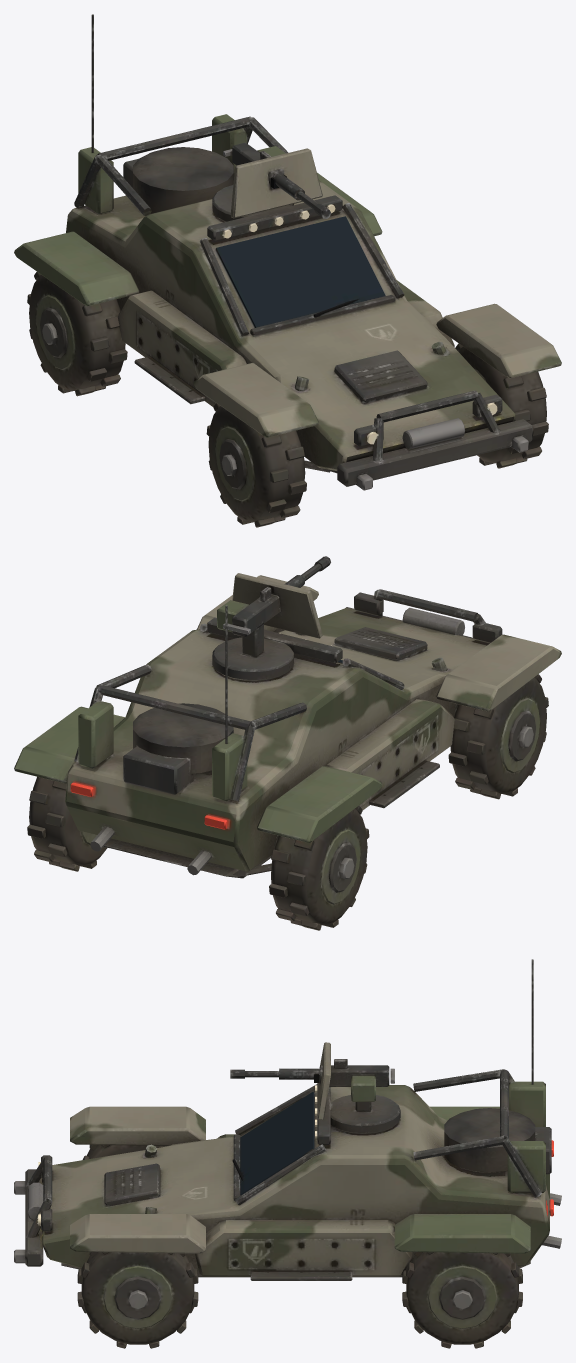
Rendered from hs_buggy_lod0.glb.
The picture shows the model from 3 angles, top to bottom: view 1: azimuth 30°, elevation 25°; view 2: azimuth 150°, elevation 25°; view 3: azimuth 270°, elevation 25°; orthographic projection. The views are drawn at different scales.
Bounding box in the file's own units: 2.8 × 2.94 × 4.86.
1 material, 1 textured.
